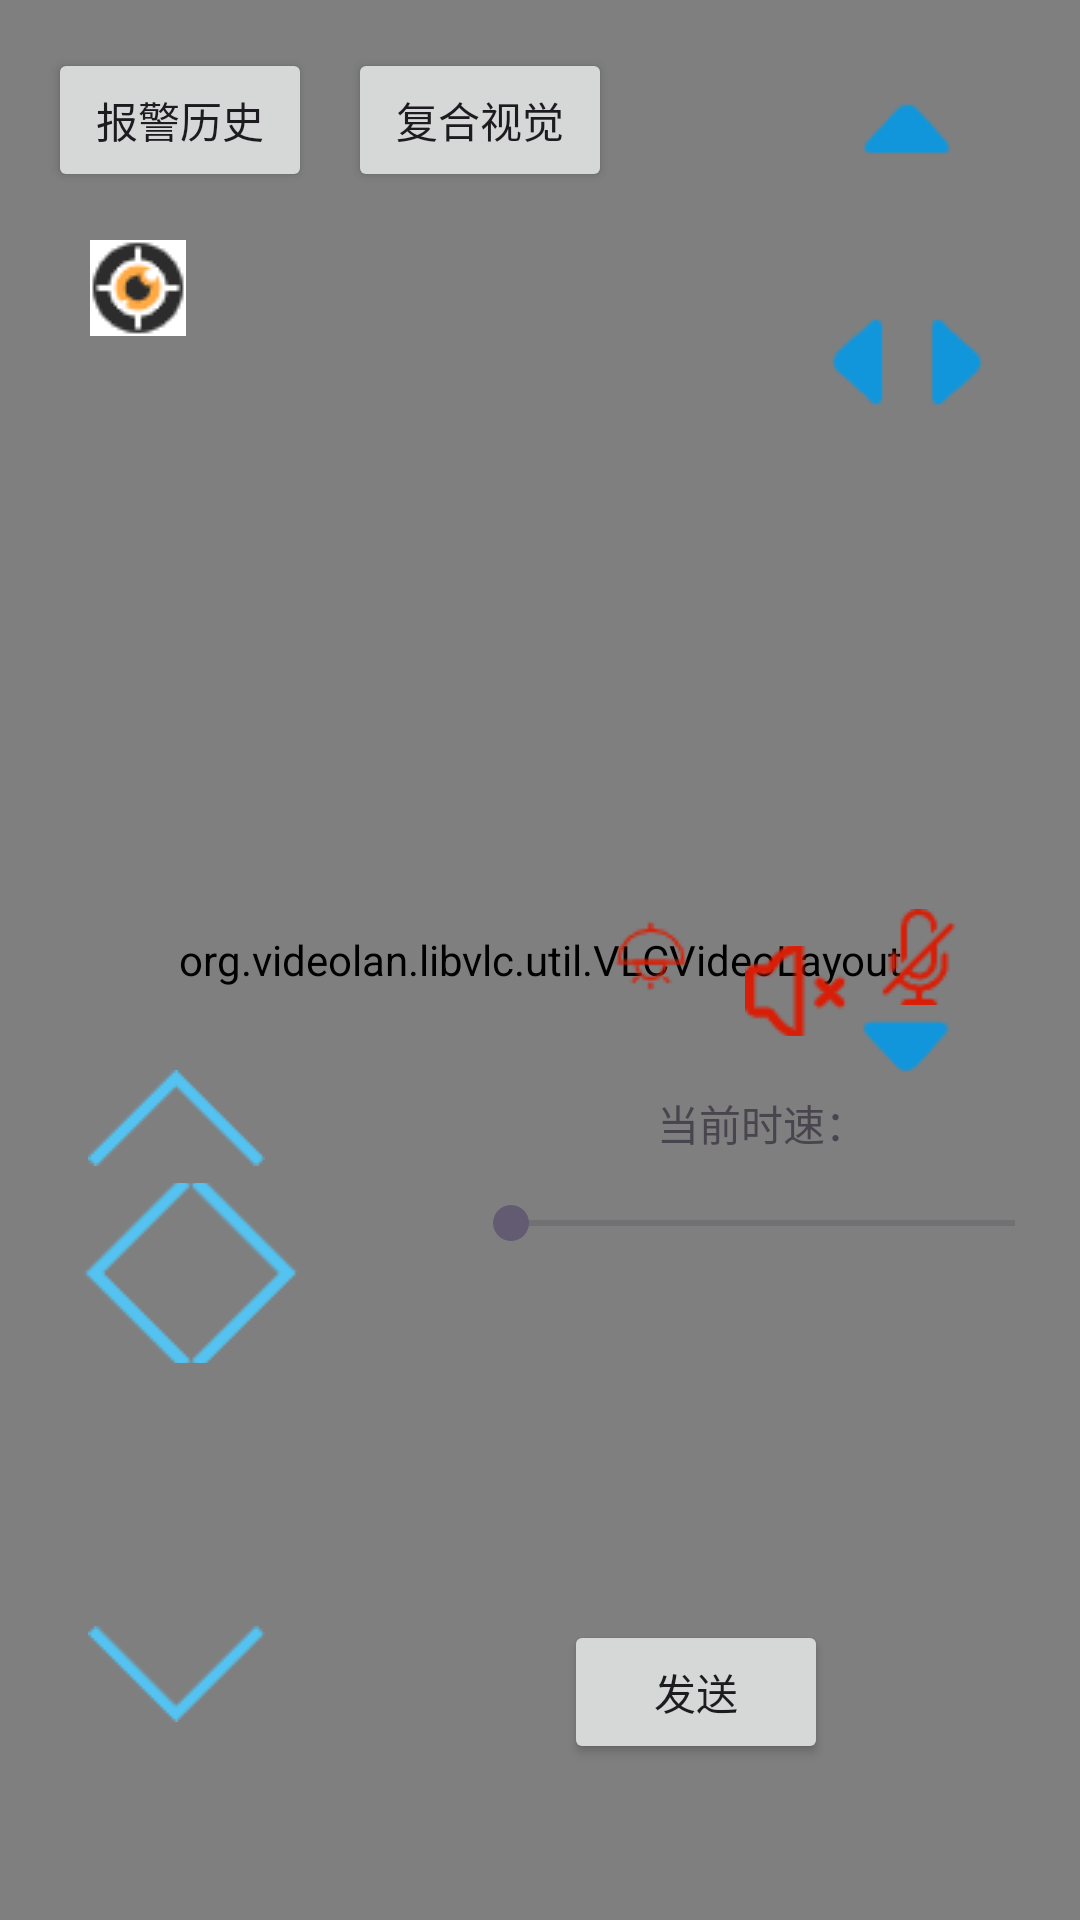

Where to tap for icons on this 1080 × 1920 app screen, as (x,y):
cameraleft: (858,362)
cameraright: (956,362)
down: (176,1674)
onthecamera: (907,129)
underthecamera: (906,1046)
开启检测: (138,288)
